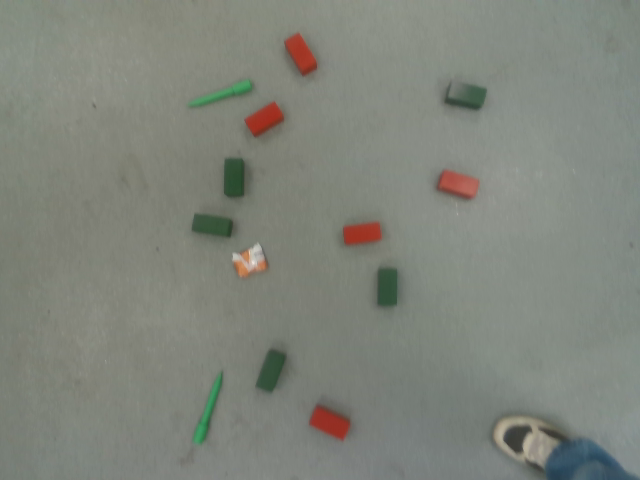Probe: (190, 366, 224, 446), (184, 76, 256, 109)
